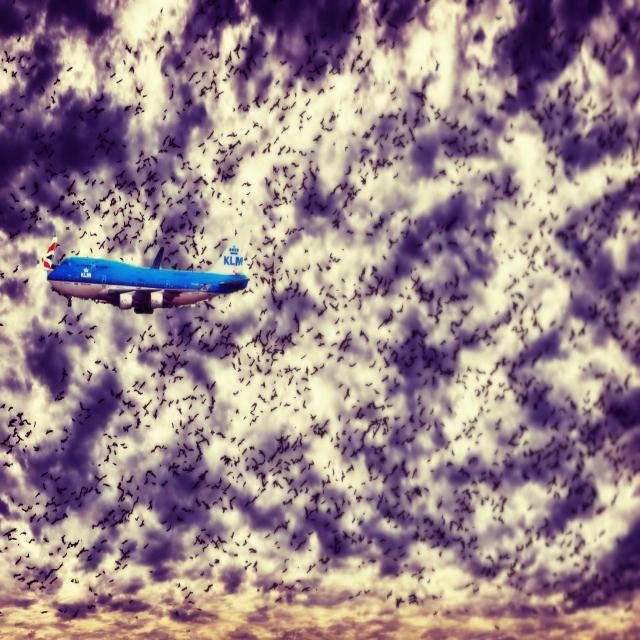airplane: (39, 223, 253, 314)
